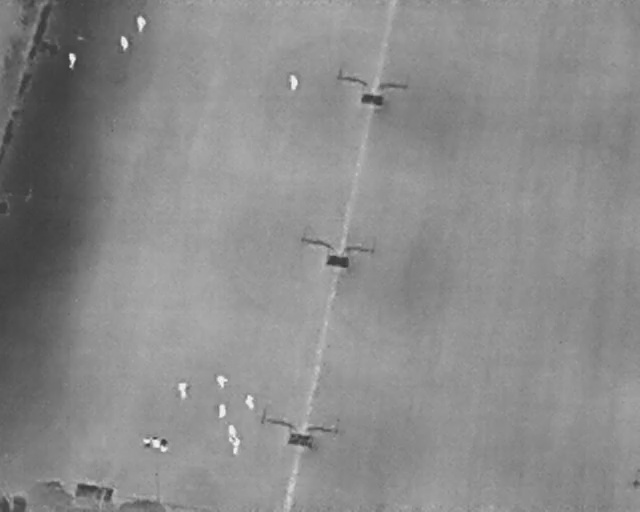Person: (178, 382, 190, 401), (229, 436, 241, 455), (245, 394, 256, 411), (136, 15, 146, 32), (216, 375, 229, 388), (217, 403, 227, 419), (120, 35, 129, 52), (289, 74, 298, 91), (227, 424, 237, 438), (69, 52, 76, 69)
